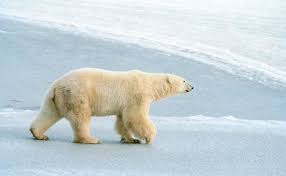PolarBear: (23, 62, 199, 152)
